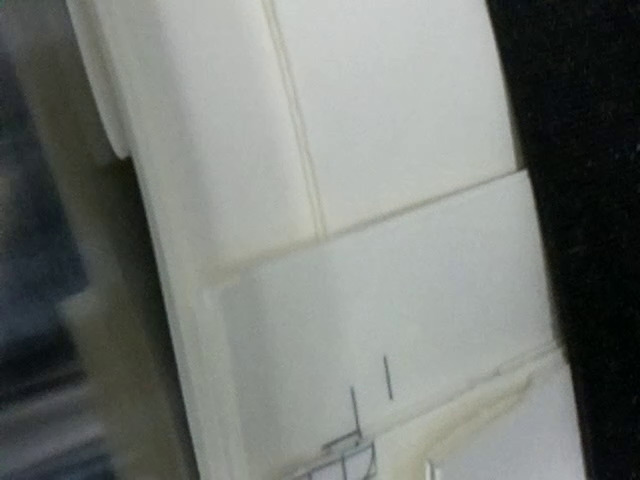misaligned: (273, 384, 382, 479)
